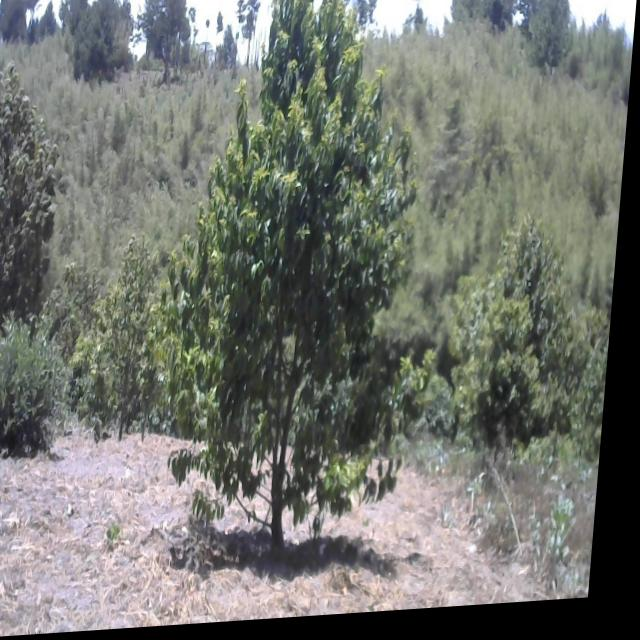Hass Avocado: (173, 0, 468, 546)
